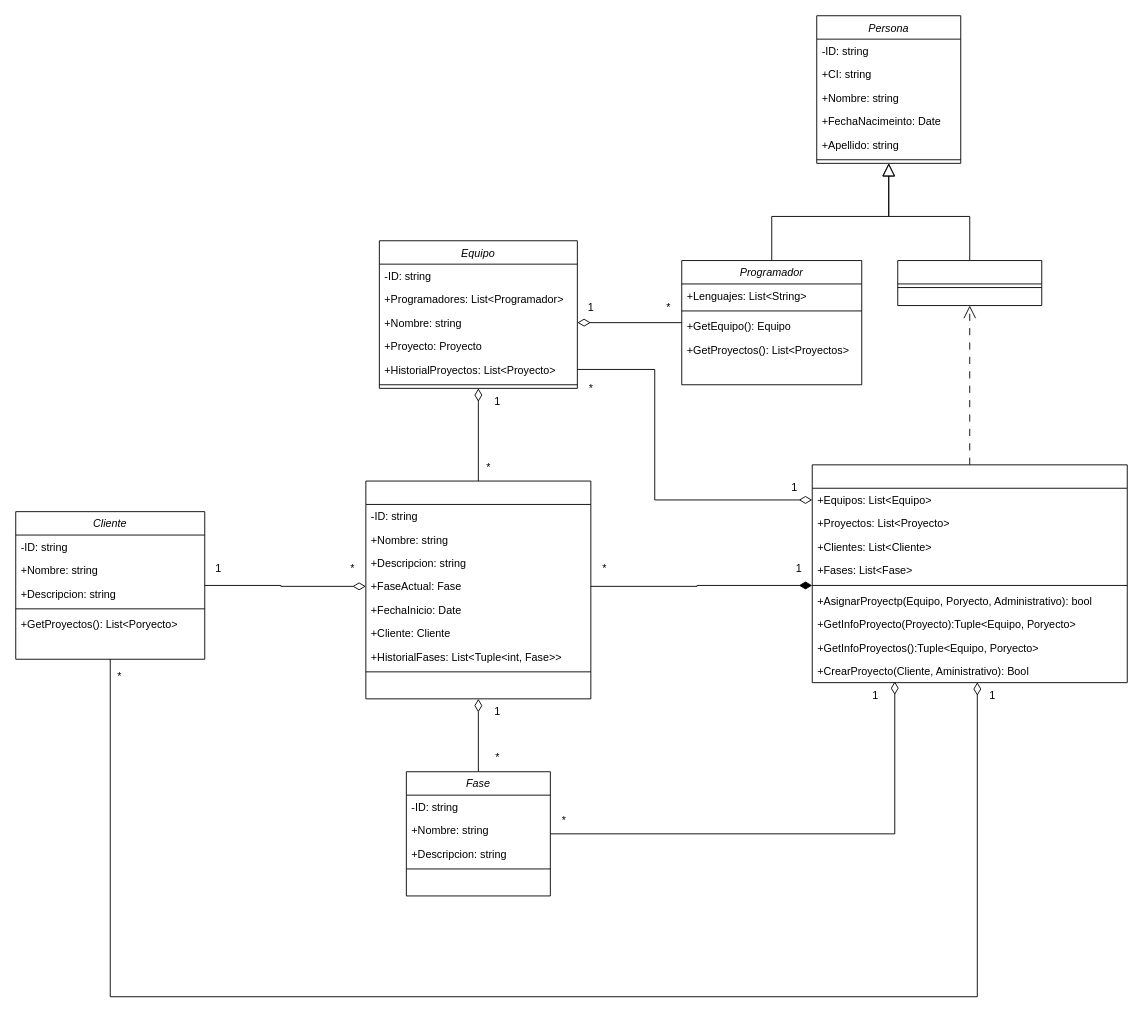
Image size: 1143x1025. Some labels were removed from this diagram. The shapes that lost their labels are listed below. From the top down, each one's box as (x1, y1, x2, y2) in pixels, then its label:
(897, 260, 1042, 306): Administrativo
(365, 480, 591, 699): Proyecto
(811, 464, 1127, 683): Gestion
